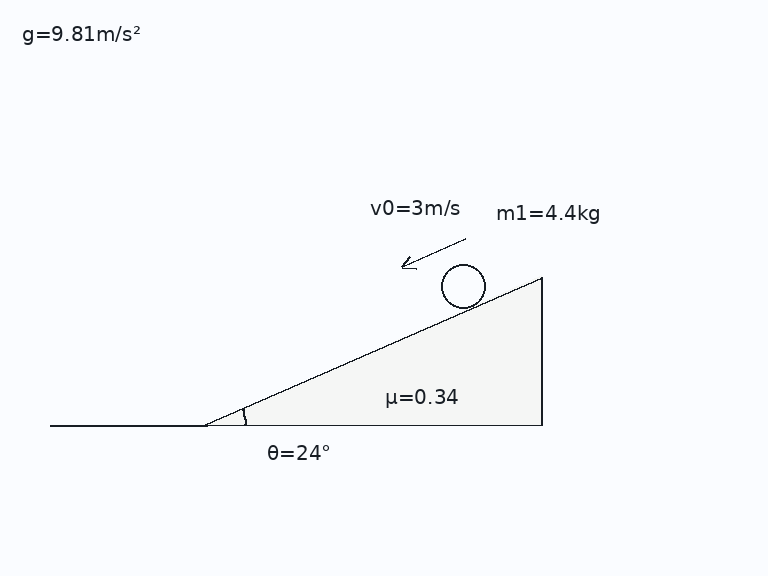ball: (439, 262, 487, 310)
ramp: (204, 274, 543, 427)
